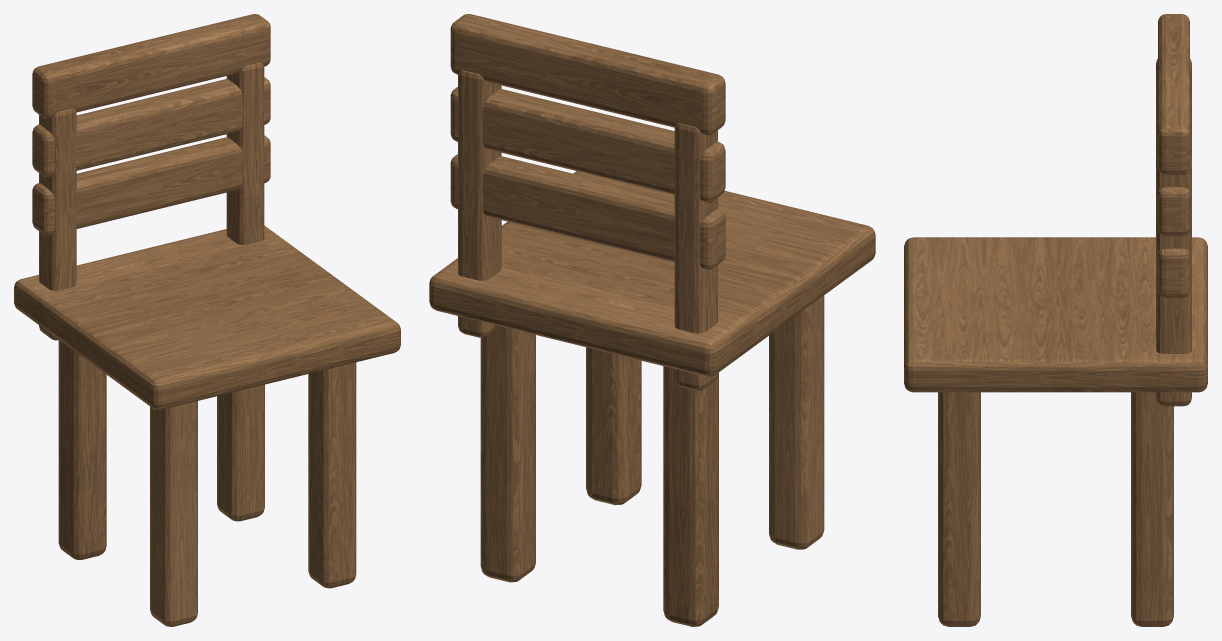
File: hiperreal.glb
3 views of the same model, side by side, from view 1: azimuth 30°, elevation 25°; view 2: azimuth 150°, elevation 25°; view 3: azimuth 270°, elevation 25° (orthographic). The views are drawn at different scales.
Parts seen in each view (by area): view 1: Seat, Back slat.002, Back slat, Back slat.001, Leg.003, Leg.001, Leg, Leg.002, Back upright, Back upright.001; view 2: Seat, Back slat.002, Back slat, Back slat.001, Leg.002, Leg, Leg.001, Leg.003, Back upright, Back upright.001; view 3: Seat, Leg.003, Leg.002, Back slat.002, Back upright.001, Back slat, Back slat.001.
Boxes of the visible parts, x1=… form: Seat: x1=14, y1=225, x2=400, y2=409; Back slat.002: x1=32, y1=14, x2=270, y2=118; Back slat: x1=32, y1=135, x2=270, y2=235; Back slat.001: x1=32, y1=77, x2=270, y2=177; Leg.003: x1=308, y1=362, x2=356, y2=588; Leg.001: x1=150, y1=401, x2=197, y2=626; Leg: x1=58, y1=340, x2=106, y2=559; Leg.002: x1=217, y1=384, x2=264, y2=521; Back upright: x1=39, y1=108, x2=76, y2=340; Back upright.001: x1=226, y1=62, x2=264, y2=245; Seat: x1=429, y1=171, x2=875, y2=376; Back slat.002: x1=450, y1=14, x2=725, y2=135; Back slat: x1=450, y1=154, x2=725, y2=269; Back slat.001: x1=450, y1=87, x2=725, y2=202; Leg.002: x1=480, y1=325, x2=535, y2=582; Leg: x1=663, y1=366, x2=718, y2=626; Leg.001: x1=769, y1=295, x2=824, y2=549; Leg.003: x1=586, y1=347, x2=641, y2=505; Back upright: x1=674, y1=123, x2=717, y2=390; Back upright.001: x1=458, y1=70, x2=501, y2=337; Seat: x1=904, y1=237, x2=1207, y2=392; Leg.003: x1=938, y1=392, x2=980, y2=626; Leg.002: x1=1131, y1=392, x2=1173, y2=626; Back slat.002: x1=1158, y1=14, x2=1189, y2=174; Back upright.001: x1=1156, y1=155, x2=1191, y2=406; Back slat: x1=1158, y1=248, x2=1189, y2=298; Back slat.001: x1=1158, y1=187, x2=1189, y2=236.
Bounding box in the file's own units: 1.06 × 1.97 × 1.06.
1 material, 1 textured.
